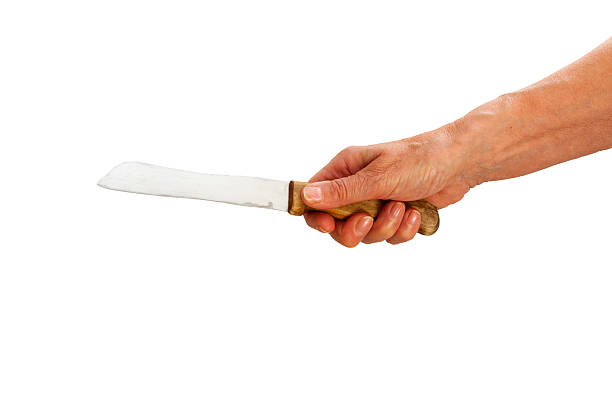knife: (95, 159, 441, 238)
